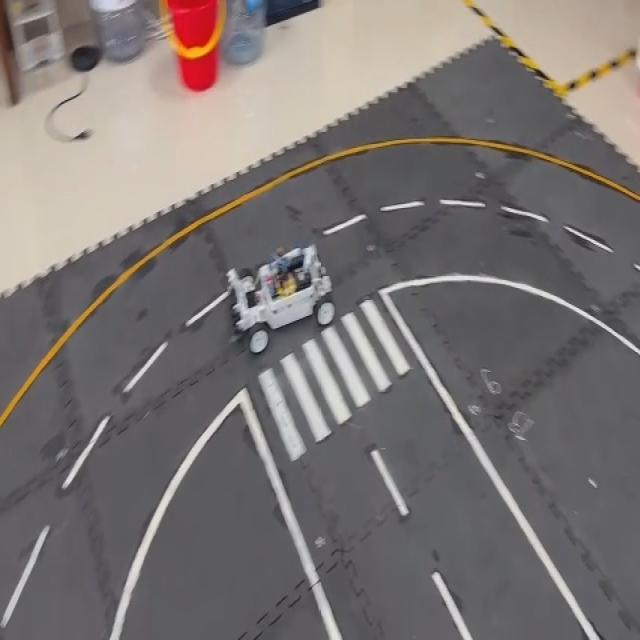SiCo-CAR: (225, 240, 336, 356)
